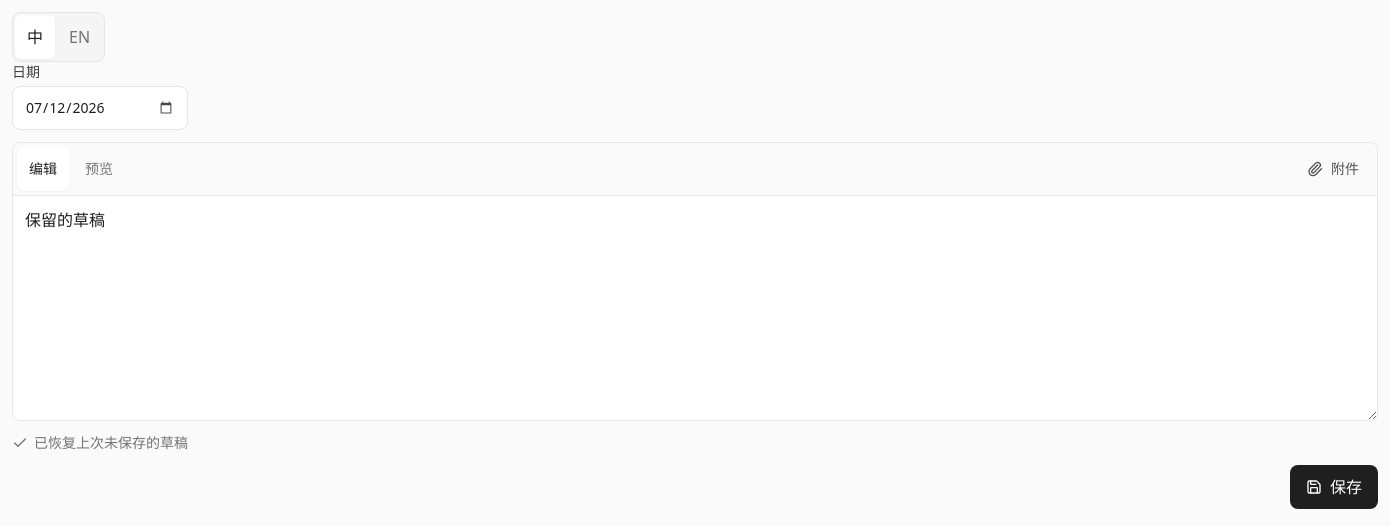
Test: EntryComposer › clears stale feedback on language changes without losing the draft
Expected: the text box holds "保留的草稿", [13,196,1377,420]
Expected: the text "已恢复上次未保存的草稿" is shown, [12,433,188,453]
Click the button named "English" at x=80, y=37, box [57,15,102,59]
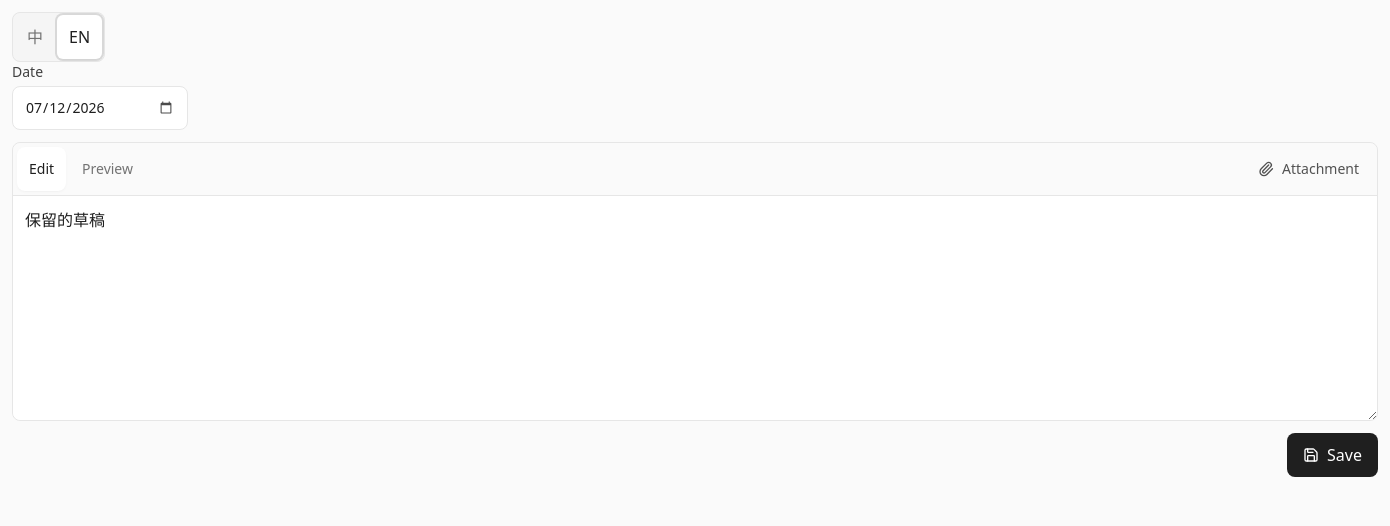
Expected: the text box holds "保留的草稿", [13,196,1377,420]
Now the text "已恢复上次未保存的草稿" is gone
Click the button named "中文" at x=35, y=37, box [15,15,55,59]
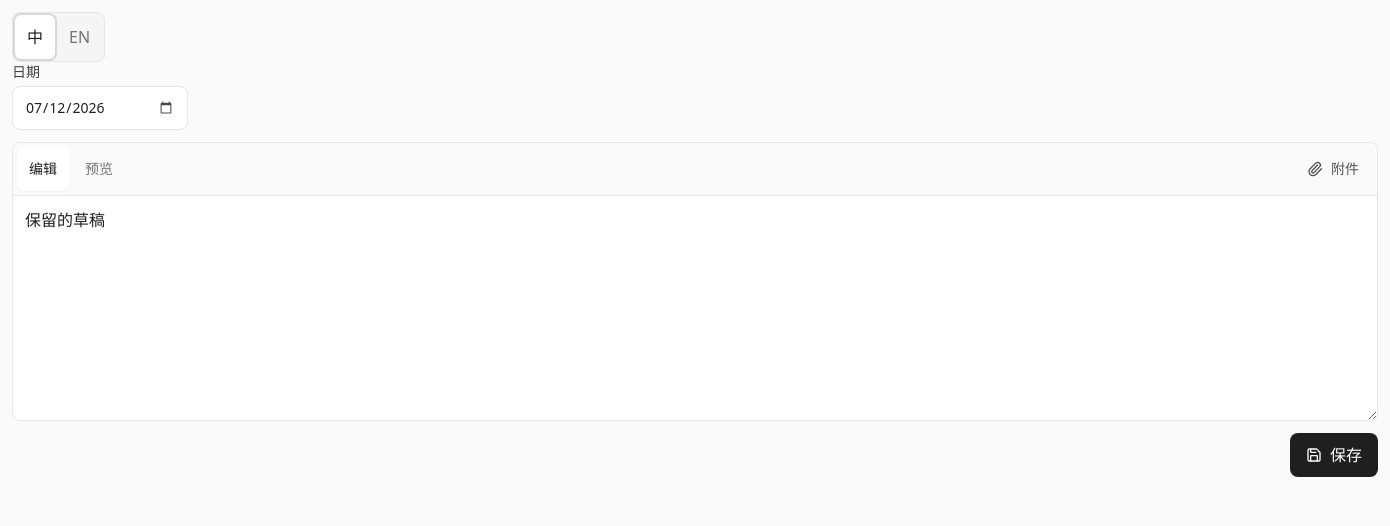
Click the button "保存" at x=1334, y=455, box [1290,433,1378,477]
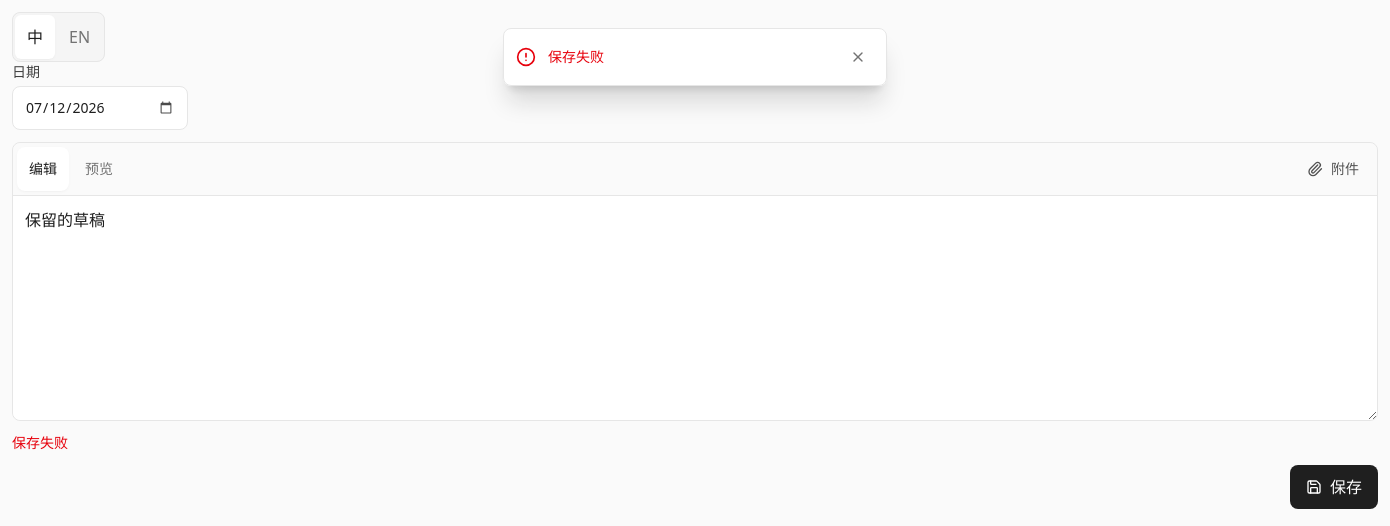
Now the text "保存失败" is shown 2 times, box [12,433,68,452]; [548,47,604,66]
Click the button named "English" at x=80, y=37, box [57,15,102,59]
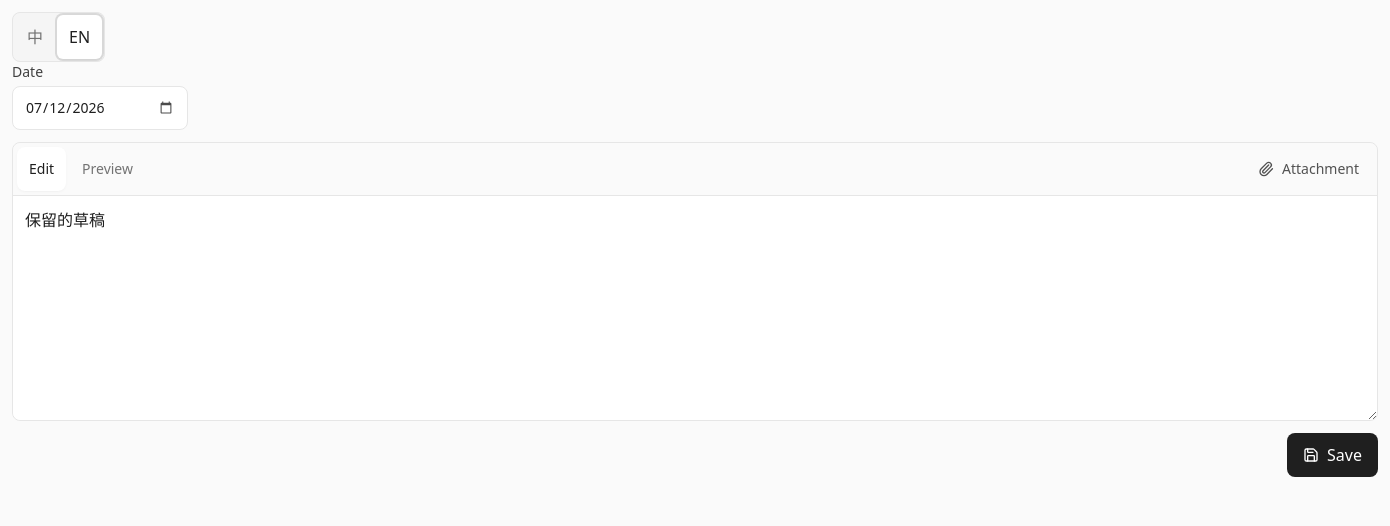
Expected: the text box holds "保留的草稿", [13,196,1377,420]
Now the text "保存失败" is gone
